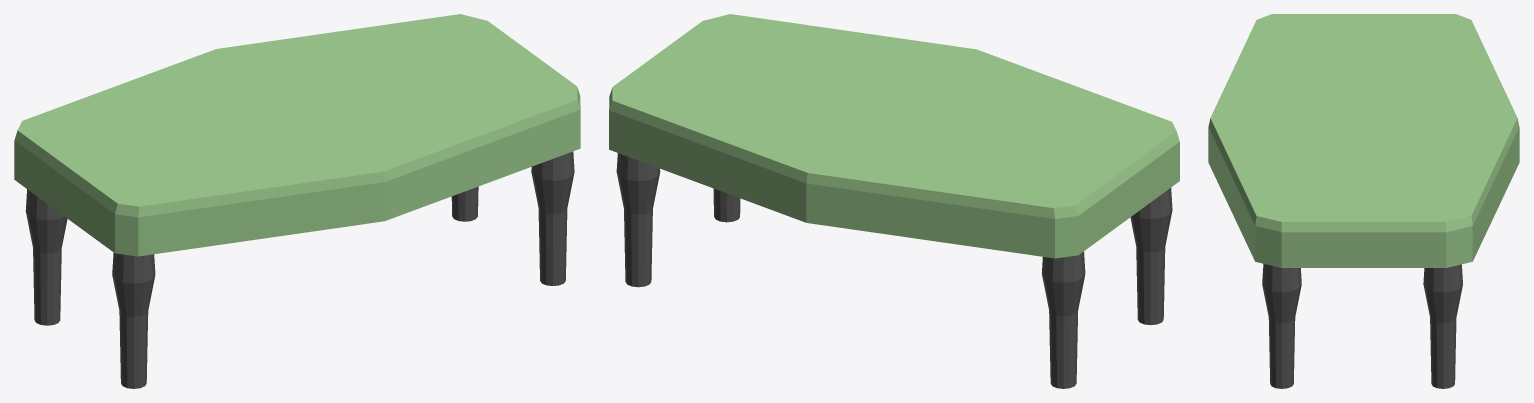
File: Dinner table.fbx
The picture shows the model from 3 angles, left to right: view 1: azimuth 30°, elevation 25°; view 2: azimuth 150°, elevation 25°; view 3: azimuth 270°, elevation 25°; orthographic projection. The views are drawn at different scales.
Visible parts, largest first — view 1: Dinner table; view 2: Dinner table; view 3: Dinner table.
Boxes of the visible parts, <box> form: Dinner table: <box>14,14,580,388</box>; Dinner table: <box>609,14,1179,388</box>; Dinner table: <box>1208,14,1519,388</box>.
Bounding box in the file's own units: 683 × 261 × 426.
